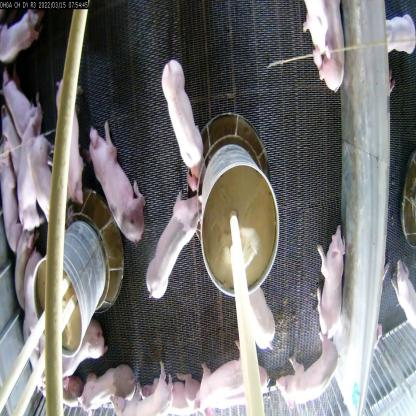Pig: (139, 184, 218, 320), (149, 56, 217, 186), (89, 132, 150, 253), (12, 91, 56, 251), (280, 321, 343, 415), (190, 359, 276, 415), (60, 82, 98, 205), (29, 144, 72, 246), (316, 222, 346, 353), (309, 4, 355, 87), (141, 369, 218, 416), (74, 368, 143, 415), (233, 283, 280, 348), (118, 379, 189, 416)
